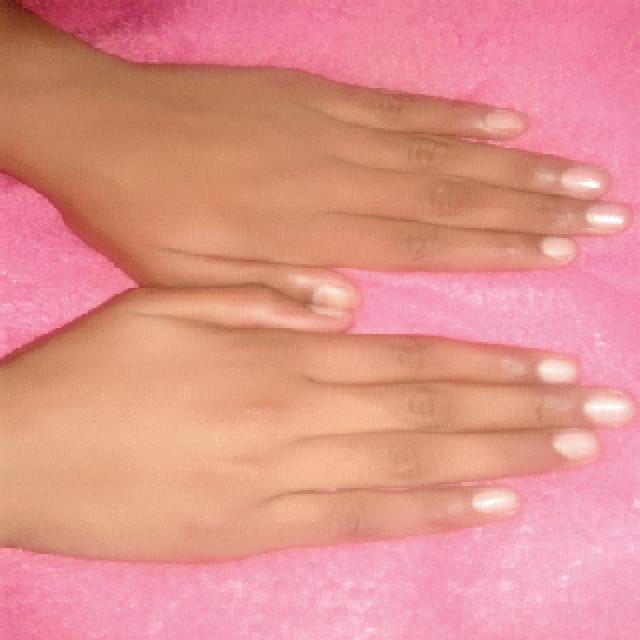Nail: (561, 164, 606, 198), (585, 392, 631, 424), (584, 202, 630, 233), (313, 282, 358, 311), (553, 432, 597, 458), (473, 489, 519, 513), (539, 356, 579, 383), (486, 110, 526, 133), (541, 239, 578, 261), (303, 303, 349, 315)
